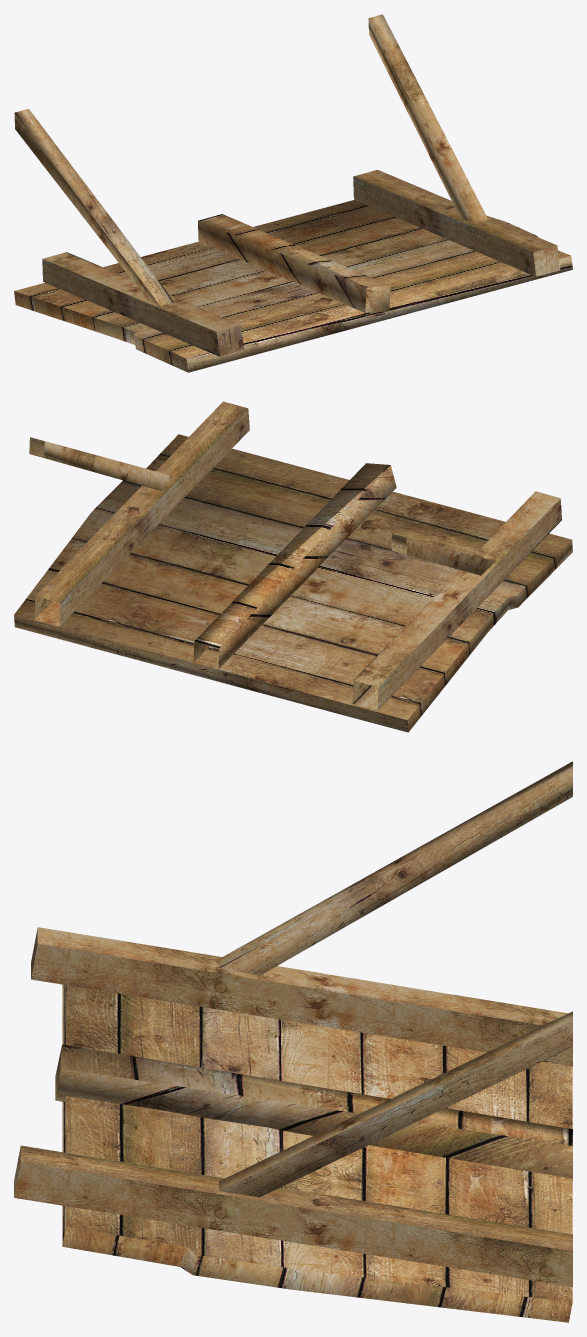
The model's file is woodboard.obj.
3 views of the same model, one above another, from view 1: azimuth 30°, elevation 25°; view 2: azimuth 150°, elevation 25°; view 3: azimuth 270°, elevation 25° (orthographic). The views are drawn at different scales.
Parts seen in each view (by area): view 1: object; view 2: object; view 3: object.
Boxes of the visible parts, x1=… form: object: x1=14, y1=14, x2=572, y2=372; object: x1=14, y1=401, x2=572, y2=732; object: x1=14, y1=761, x2=572, y2=1322.
Bounding box in the file's own units: 59.62 × 28.42 × 47.43.
